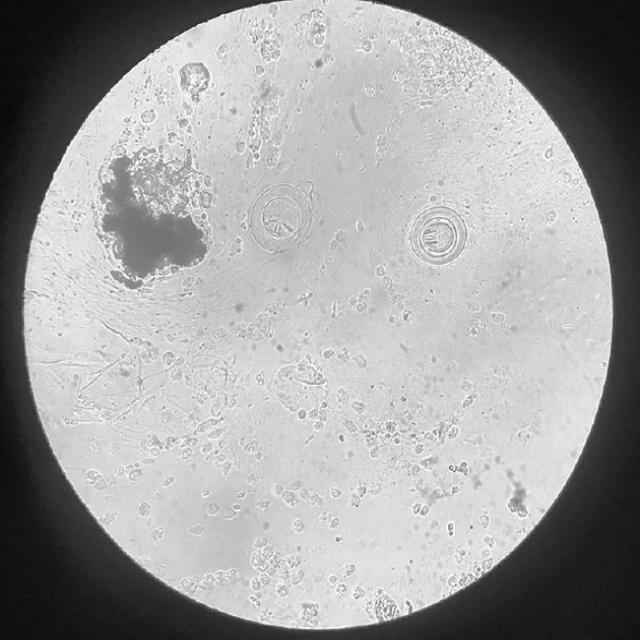Hymenolepis: (242, 177, 324, 256), (402, 200, 477, 272)
